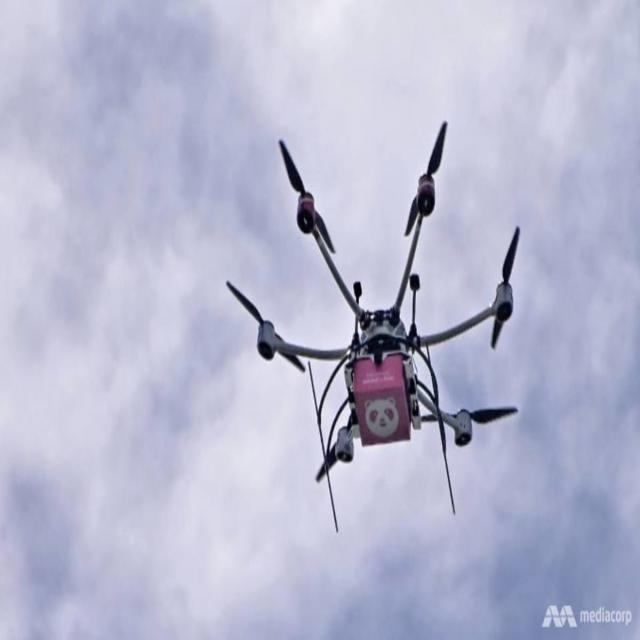drones: (223, 112, 535, 535)
